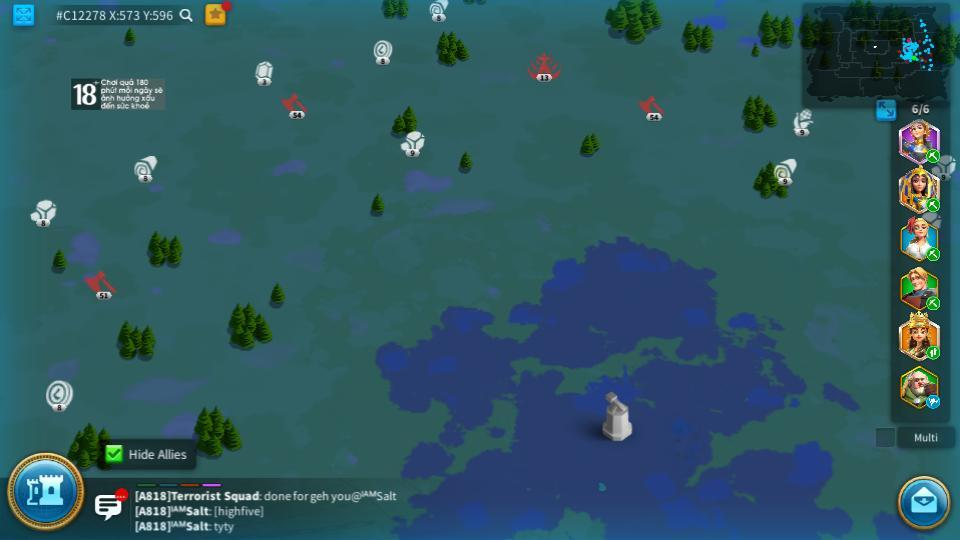gem-z-out: (254, 61, 273, 83)
march_farming: (924, 197, 939, 212), (925, 250, 941, 261)
march_idle: (925, 396, 942, 408)
march_marching: (925, 345, 941, 359), (925, 150, 941, 162), (925, 297, 942, 308)
